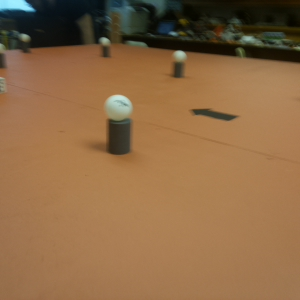blockE: (1, 77, 9, 96)
corner: (110, 11, 123, 45)
obstacle: (104, 95, 134, 158), (170, 51, 190, 80), (98, 37, 112, 62), (19, 35, 33, 55), (1, 45, 9, 69)
start: (188, 106, 238, 122)
